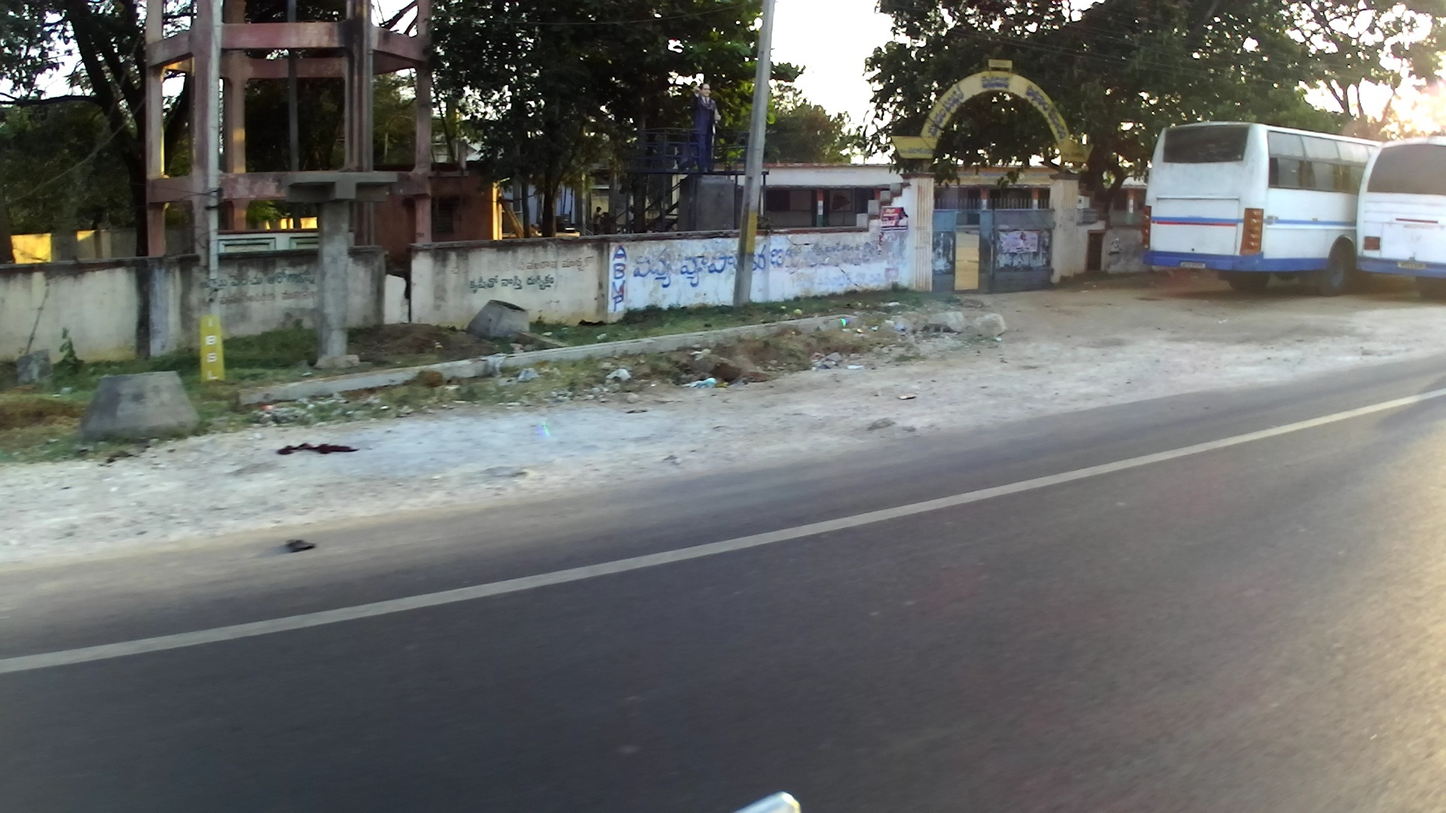bus: (1138, 120, 1385, 304), (1356, 136, 1445, 301)
person: (592, 203, 606, 237)
